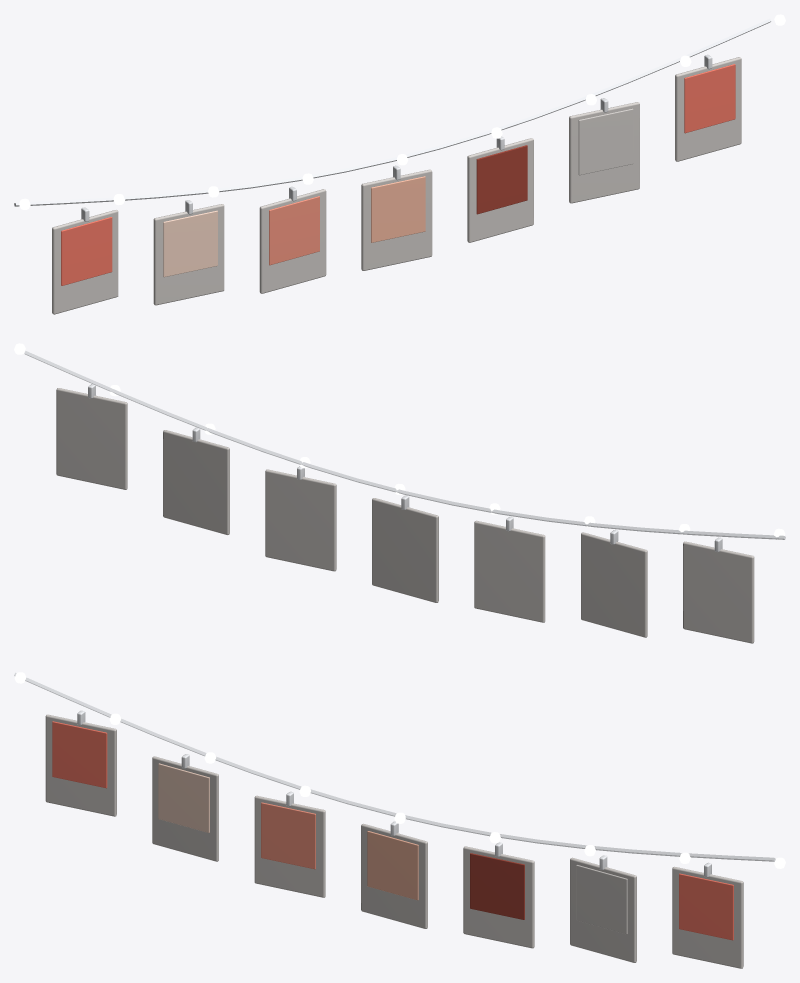
File: polaroid_wall_string.glb
3 renders of one model, top to bottom at view 1: azimuth 30°, elevation 25°; view 2: azimuth 150°, elevation 25°; view 3: azimuth 330°, elevation 25°, orthographic.
Parts seen in each view (by area): view 1: polaroid_wall_string; view 2: polaroid_wall_string; view 3: polaroid_wall_string.
Part boxes in pixels (box(x1,y1,x2,y2)): polaroid_wall_string: box(14, 14, 785, 314); polaroid_wall_string: box(14, 343, 785, 643); polaroid_wall_string: box(14, 672, 785, 968).
Bounding box in the file's own units: 2.03 × 0.394 × 0.029.
